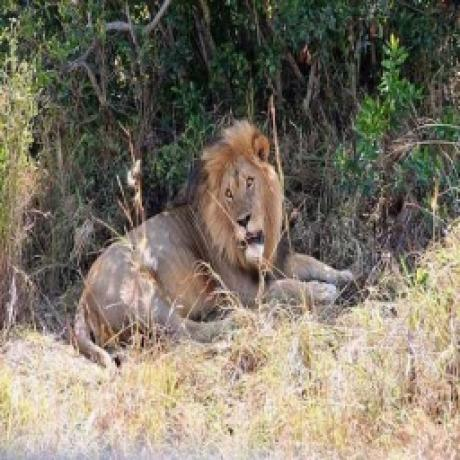Lion: (73, 124, 349, 366)
